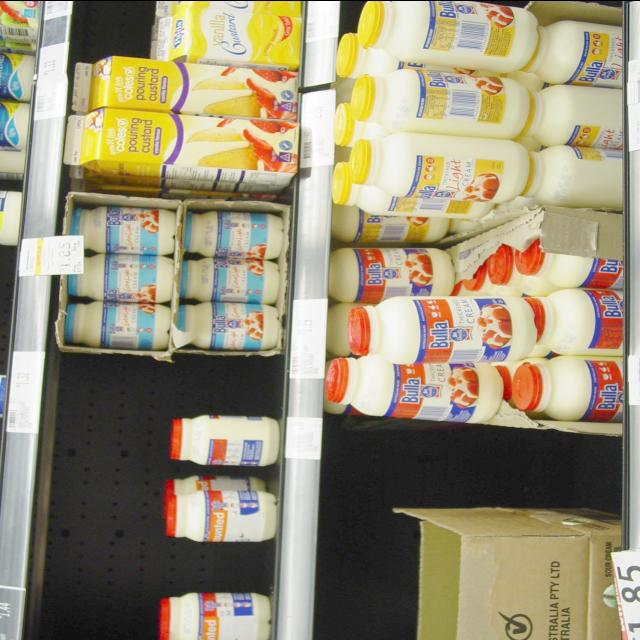empty_space: (352, 433, 609, 496), (343, 510, 401, 622), (158, 549, 270, 584), (168, 367, 280, 397)
